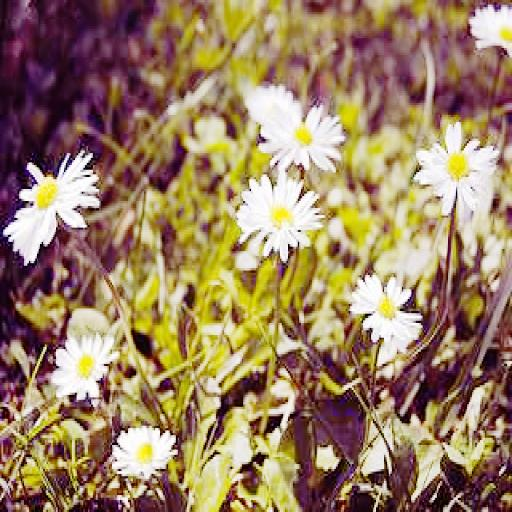daisy: (4, 153, 102, 256), (419, 124, 493, 213), (235, 177, 320, 249), (344, 272, 426, 344), (261, 103, 341, 172), (54, 332, 112, 400), (108, 426, 178, 476), (472, 2, 512, 55)
